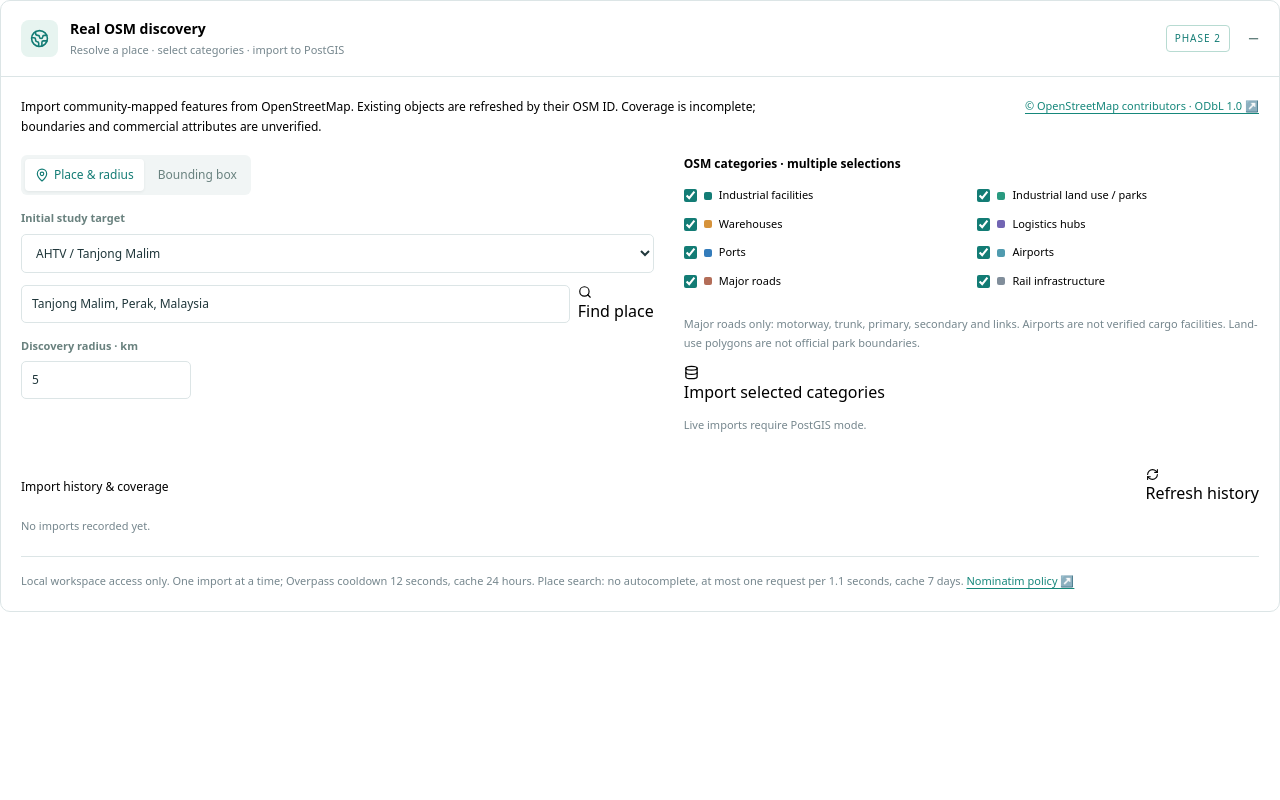
Test case: validates bounding boxes and disables live imports in fixture mode
Expected: the button "Import selected categories" is disabled, x1=684 y1=365 x2=885 y2=404
Click the button "Bounding box".
click(197, 175)  # box x1=148 y1=159 x2=247 y2=191
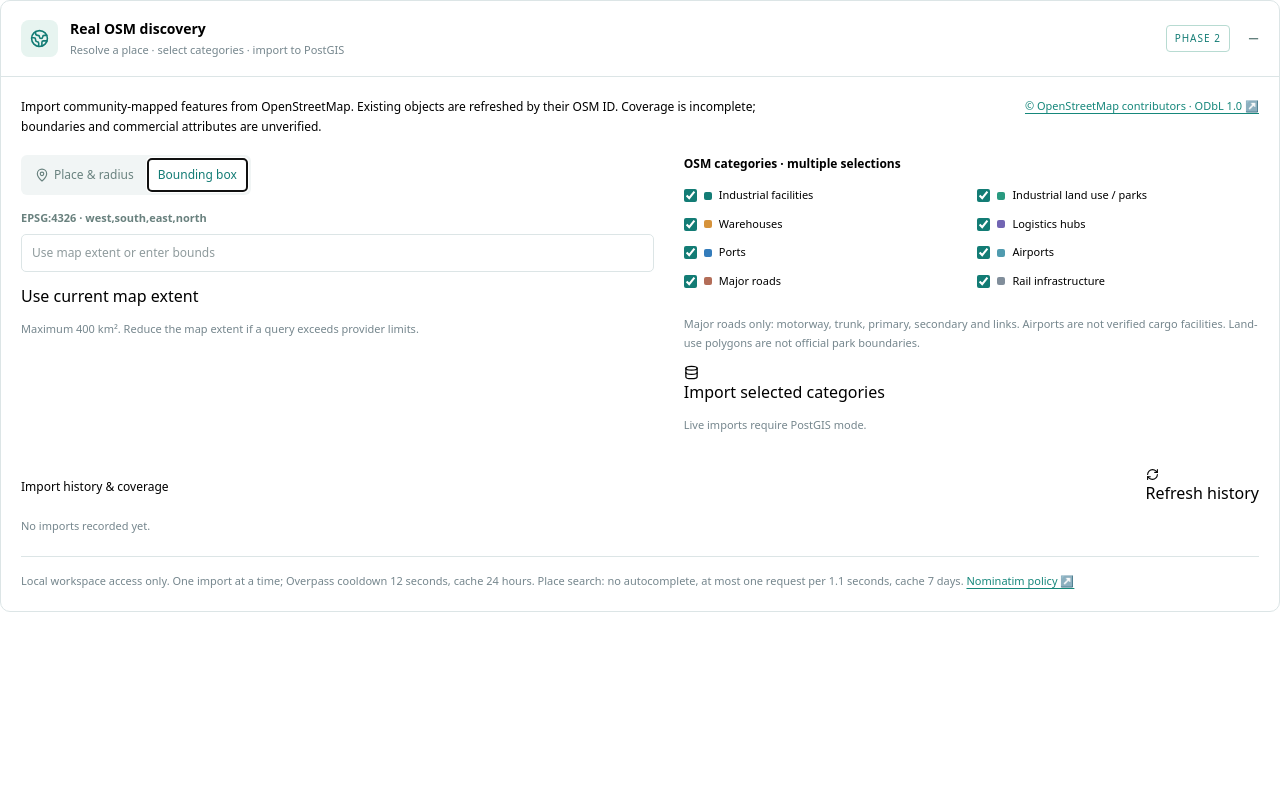
Click the button "Use current map extent".
click(110, 296)  # box x1=21 y1=284 x2=198 y2=308
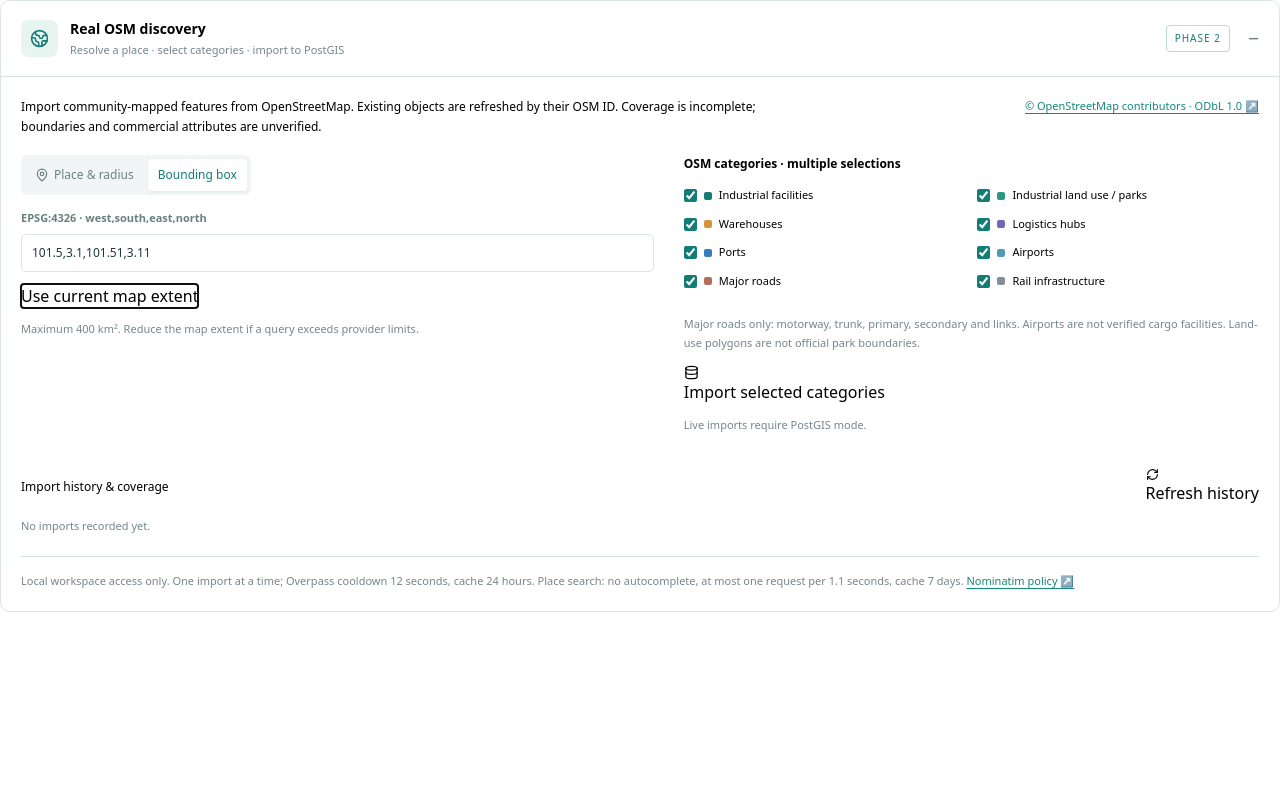
Now the field named "Discovery bounding box" holds "101.5,3.1,101.51,3.11", box x1=21 y1=234 x2=654 y2=272
